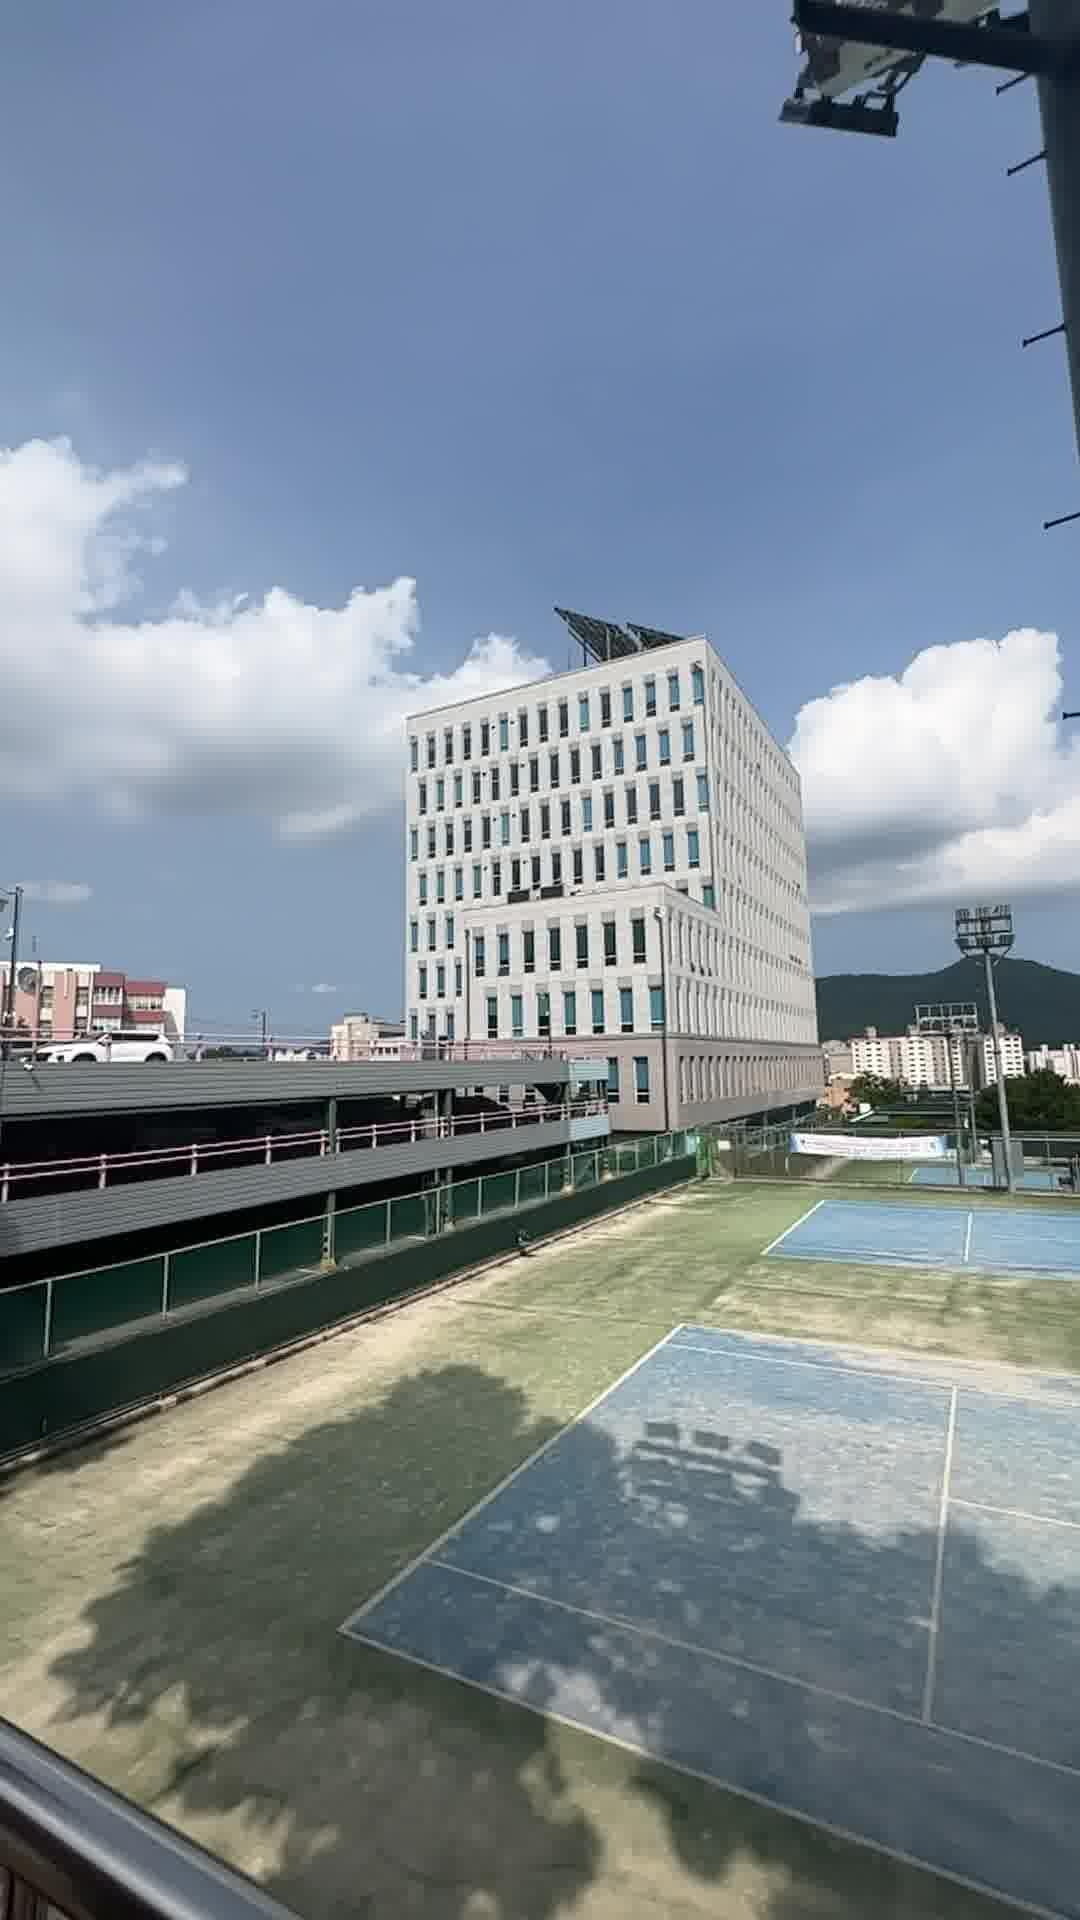building: (375, 603, 825, 1113)
